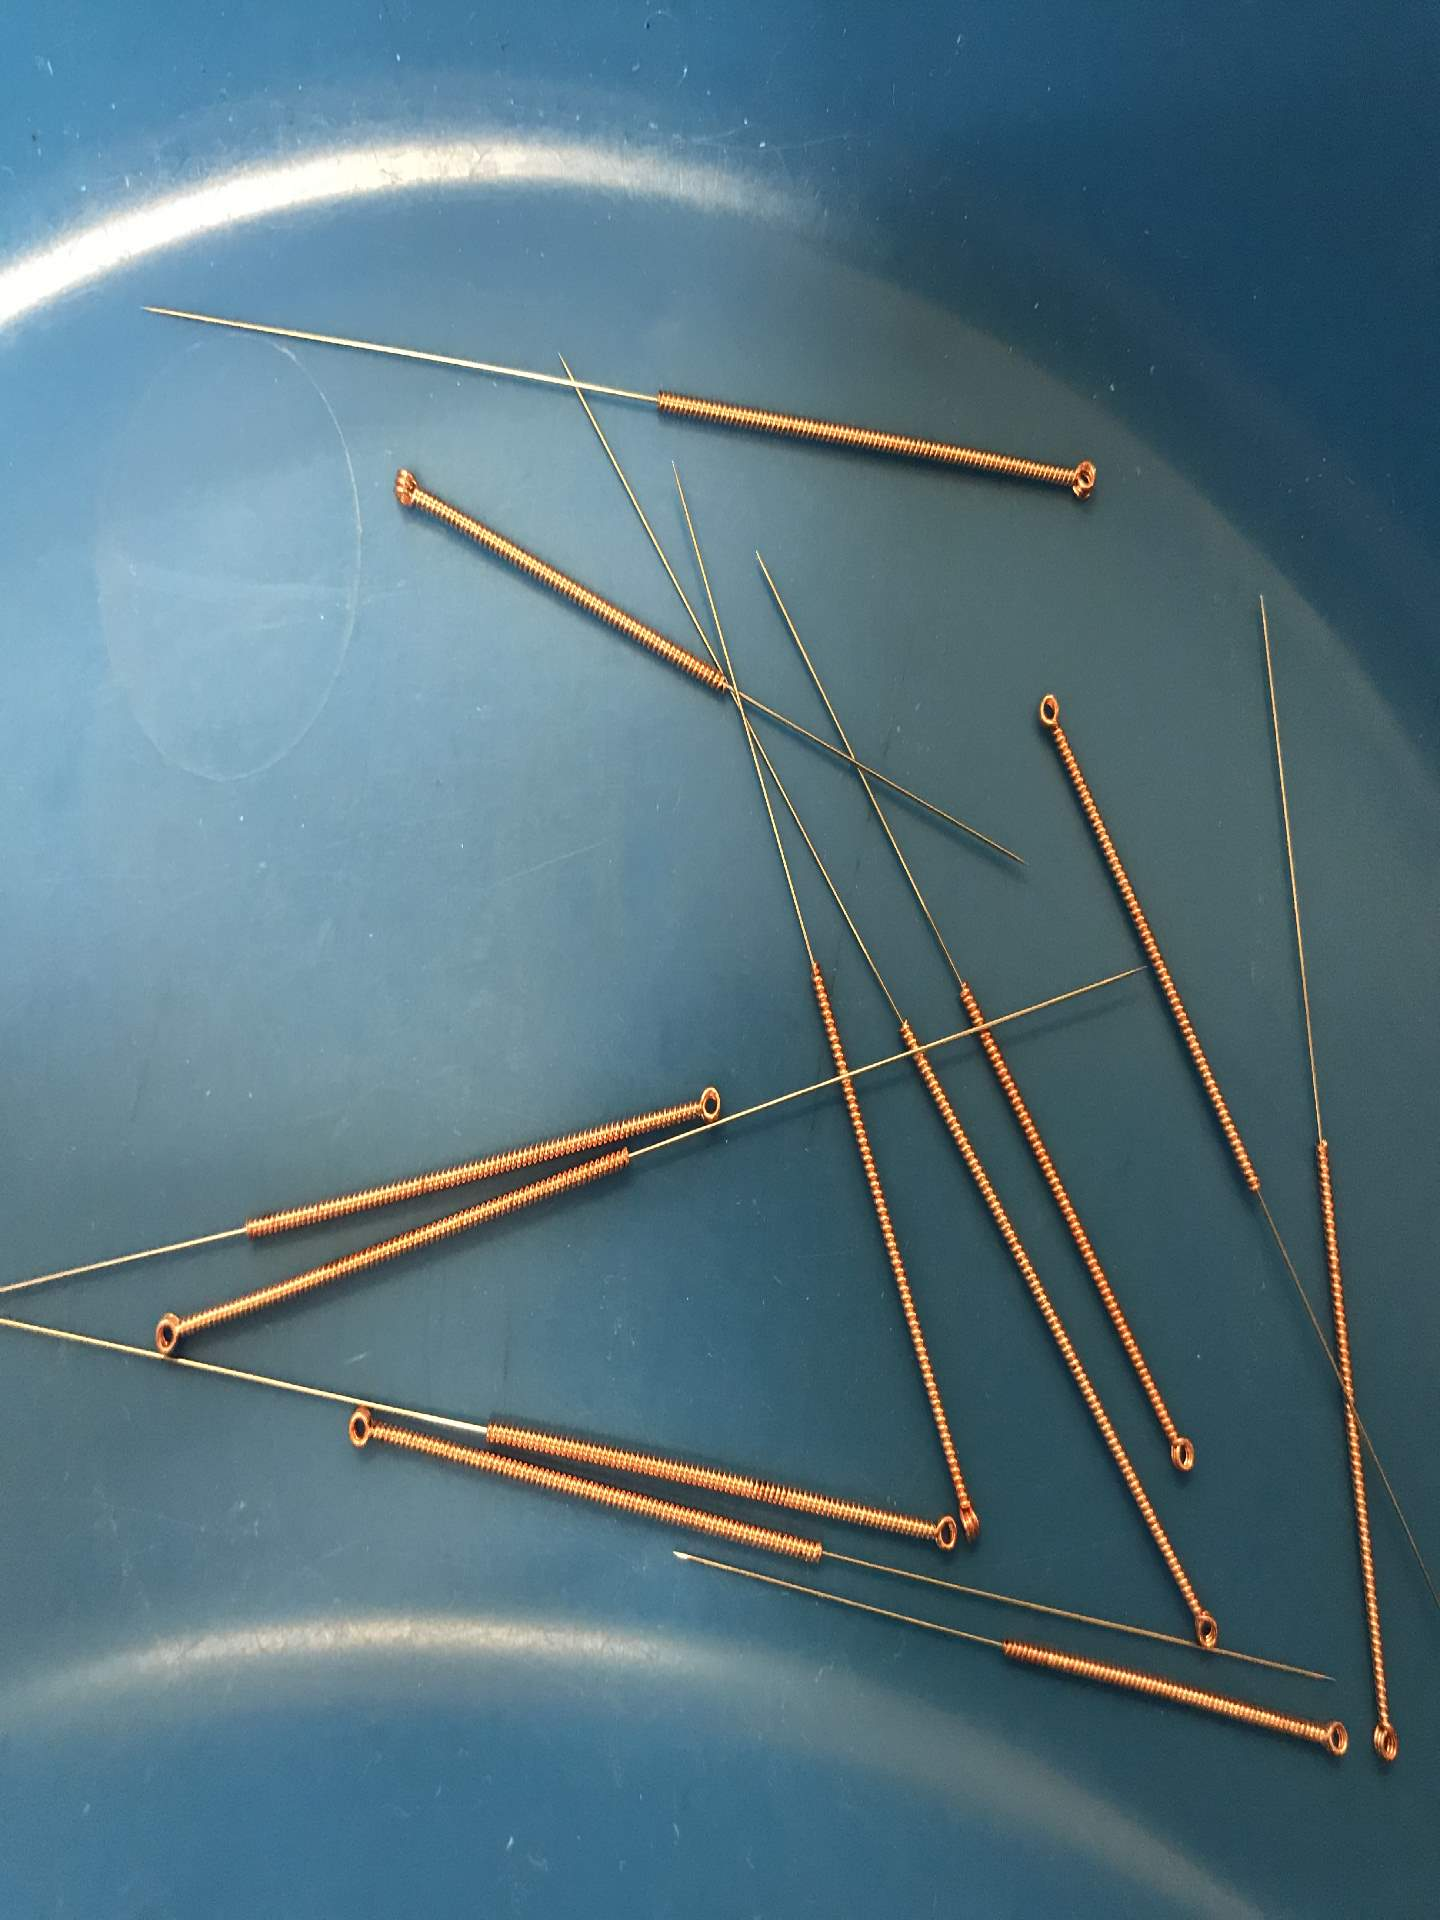needle: (139, 1297, 209, 1368), (368, 457, 443, 522), (1153, 1395, 1204, 1489), (324, 1398, 398, 1463), (1358, 1695, 1411, 1784), (1019, 670, 1077, 751), (1044, 444, 1113, 511), (1296, 1702, 1358, 1775), (670, 1075, 738, 1137), (902, 1501, 962, 1571), (953, 1469, 995, 1565), (1180, 1587, 1230, 1665)
